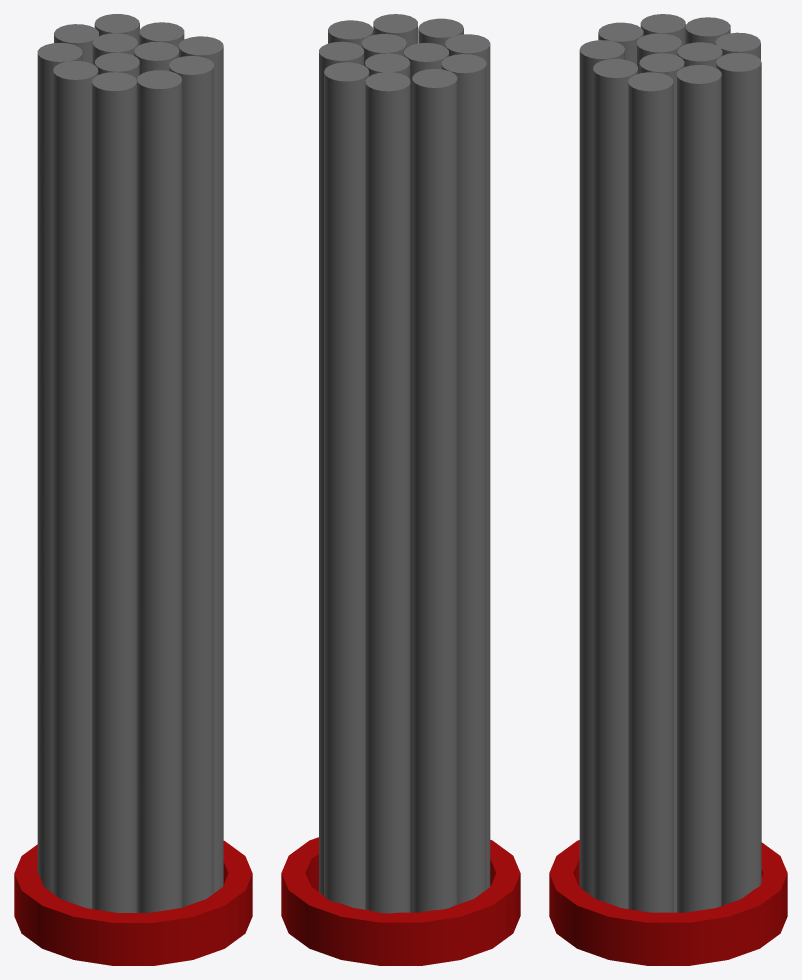
The model's file is FactoryWiresB.S.3.FBX.
The picture shows the model from 3 angles, left to right: view 1: azimuth 30°, elevation 25°; view 2: azimuth 150°, elevation 25°; view 3: azimuth 270°, elevation 25°; orthographic projection.
Visible parts, largest first — view 1: Cylinder013; view 2: Cylinder013; view 3: Cylinder013.
Part boxes in pixels (x1=…): Cylinder013: x1=14, y1=14, x2=252, y2=965; Cylinder013: x1=281, y1=14, x2=520, y2=965; Cylinder013: x1=549, y1=14, x2=787, y2=965.
Bounding box in the file's own units: 49.31 × 200 × 50.07.
